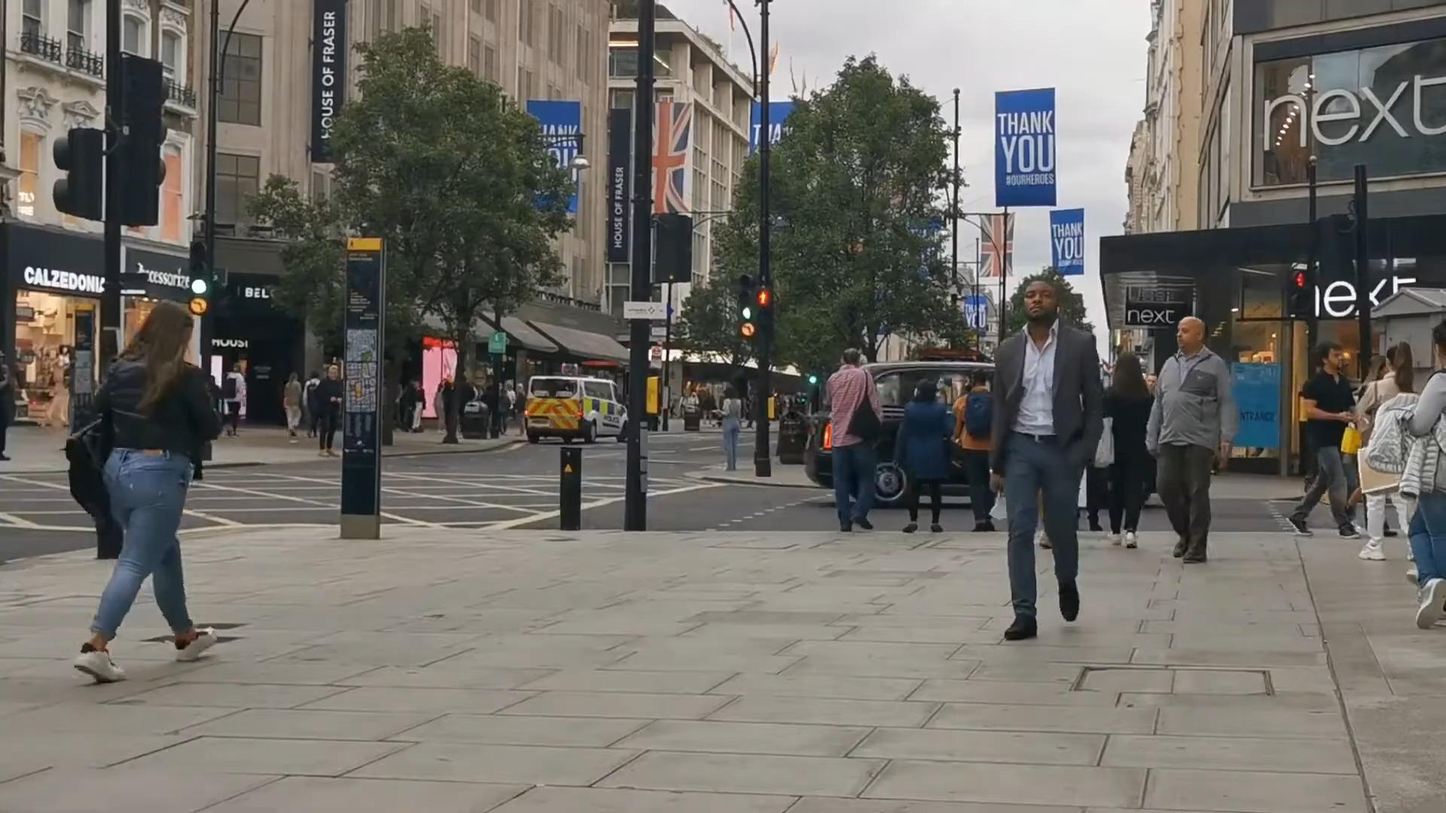no-helmet: (136, 301, 194, 363), (1023, 279, 1058, 324), (1112, 351, 1146, 390), (1176, 316, 1206, 353), (1386, 341, 1413, 374), (1317, 341, 1343, 371), (1433, 320, 1446, 370), (912, 378, 937, 402), (970, 367, 988, 388), (843, 348, 860, 369), (725, 385, 739, 400)
